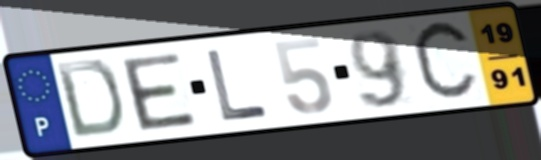5: (270, 34, 335, 117)
9: (348, 28, 410, 110)
C: (408, 15, 482, 108)
D: (52, 57, 125, 140)
E: (117, 50, 200, 133)
L: (203, 47, 273, 123)
